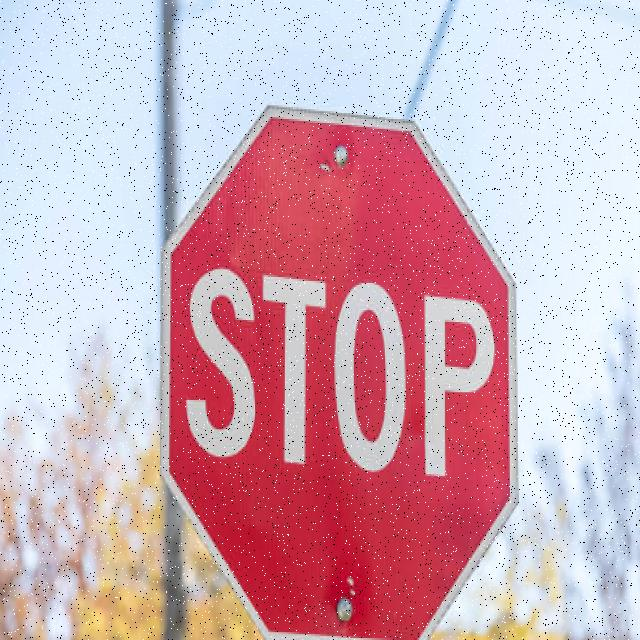stop: (152, 91, 525, 640)
